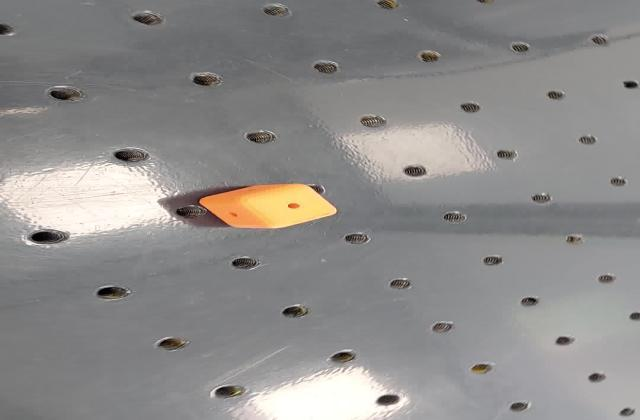cube: (191, 181, 341, 230)
